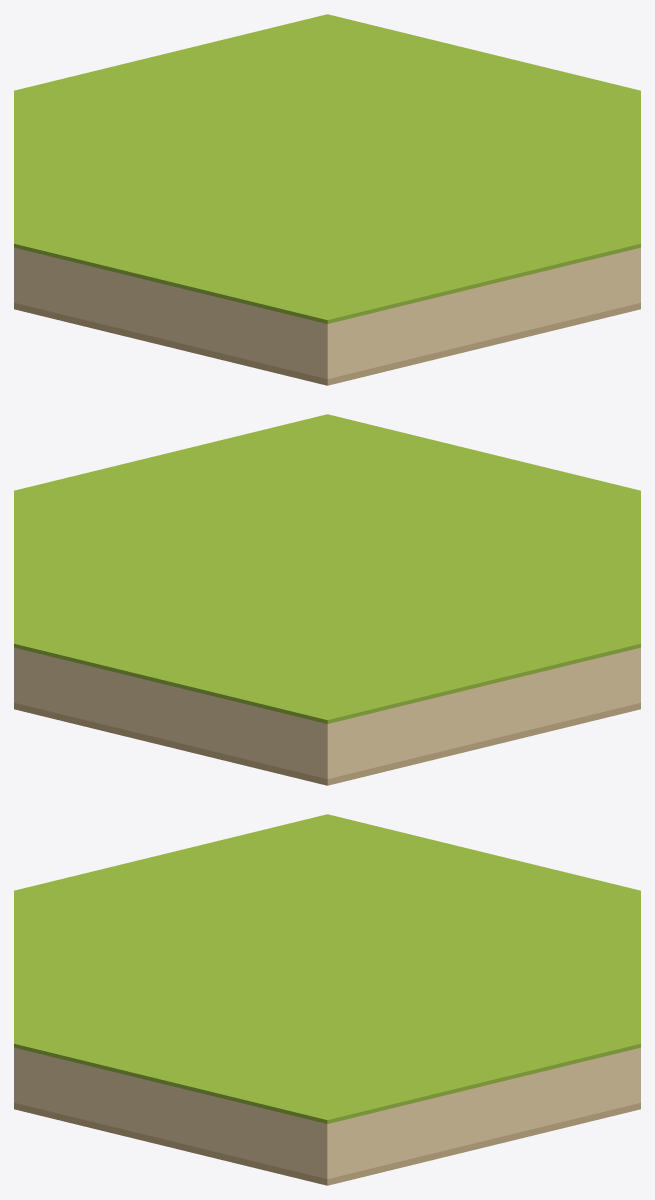
File: terrain.glb
The picture shows the model from 3 angles, top to bottom: view 1: azimuth 30°, elevation 25°; view 2: azimuth 150°, elevation 25°; view 3: azimuth 270°, elevation 25°; orthographic projection.
Visible parts, largest first — view 1: Tile_时装店; view 2: Tile_时装店; view 3: Tile_时装店.
Part boxes in pixels (x1,y1,x2,y2): Tile_时装店: [14, 14, 640, 385]; Tile_时装店: [14, 414, 640, 785]; Tile_时装店: [14, 814, 640, 1185].
Size of the model in its own units: 2 by 0.2 by 1.73.
